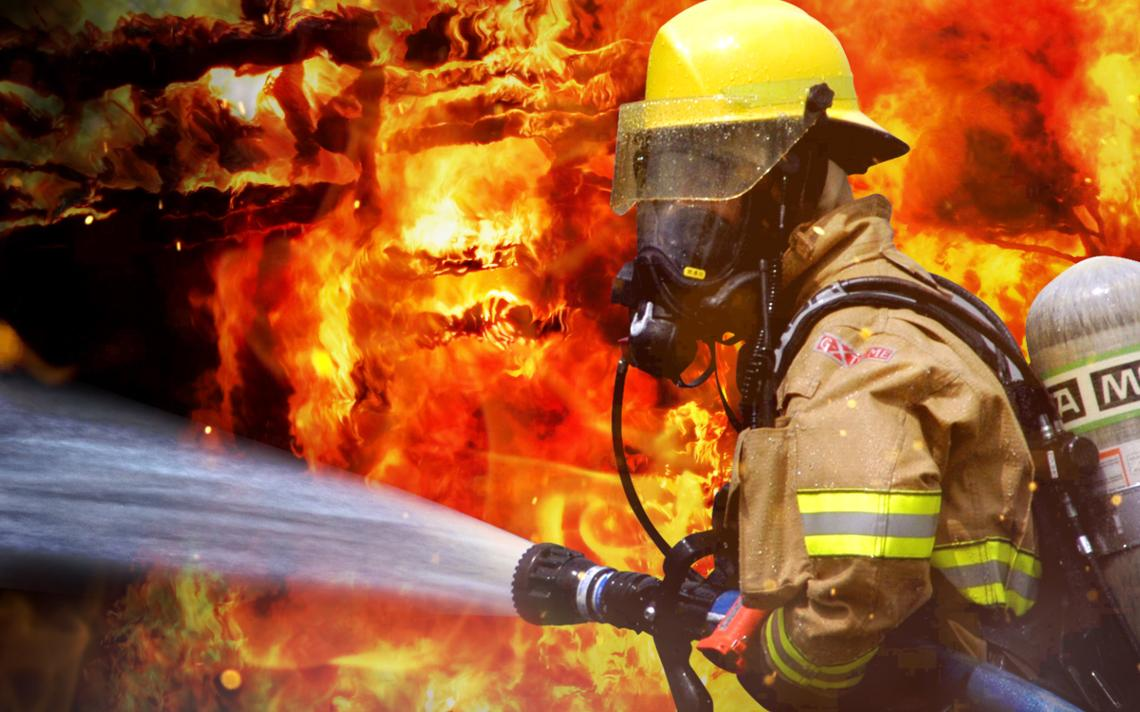Fire: (6, 11, 1140, 704)
